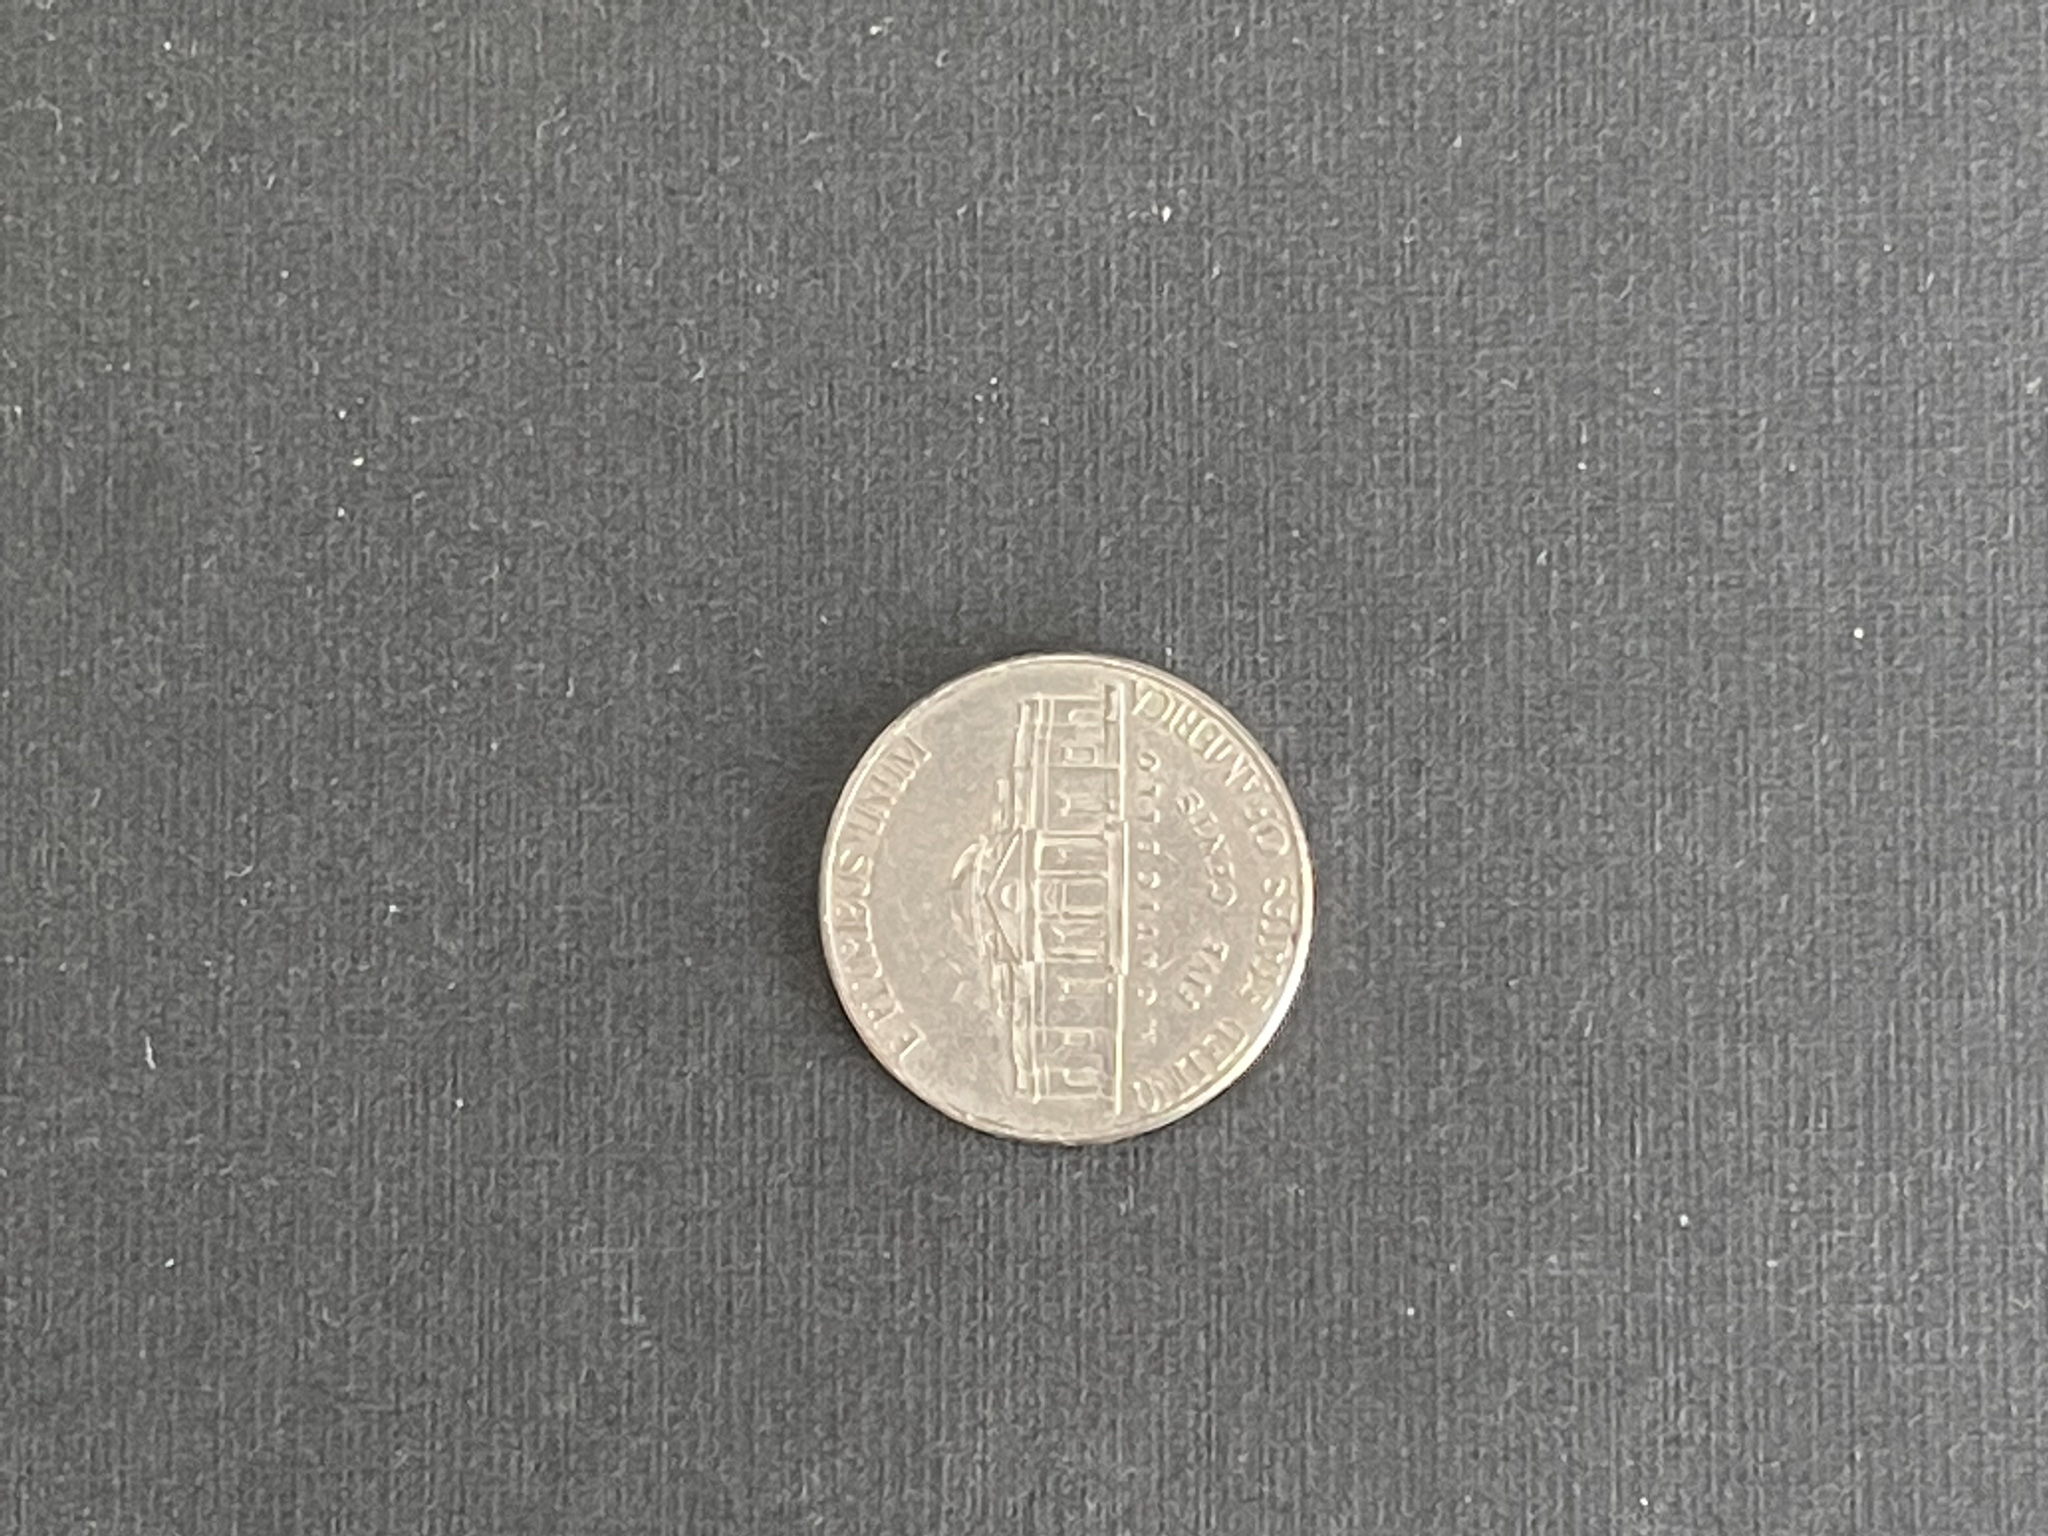nickel: (810, 642, 1322, 1150)
